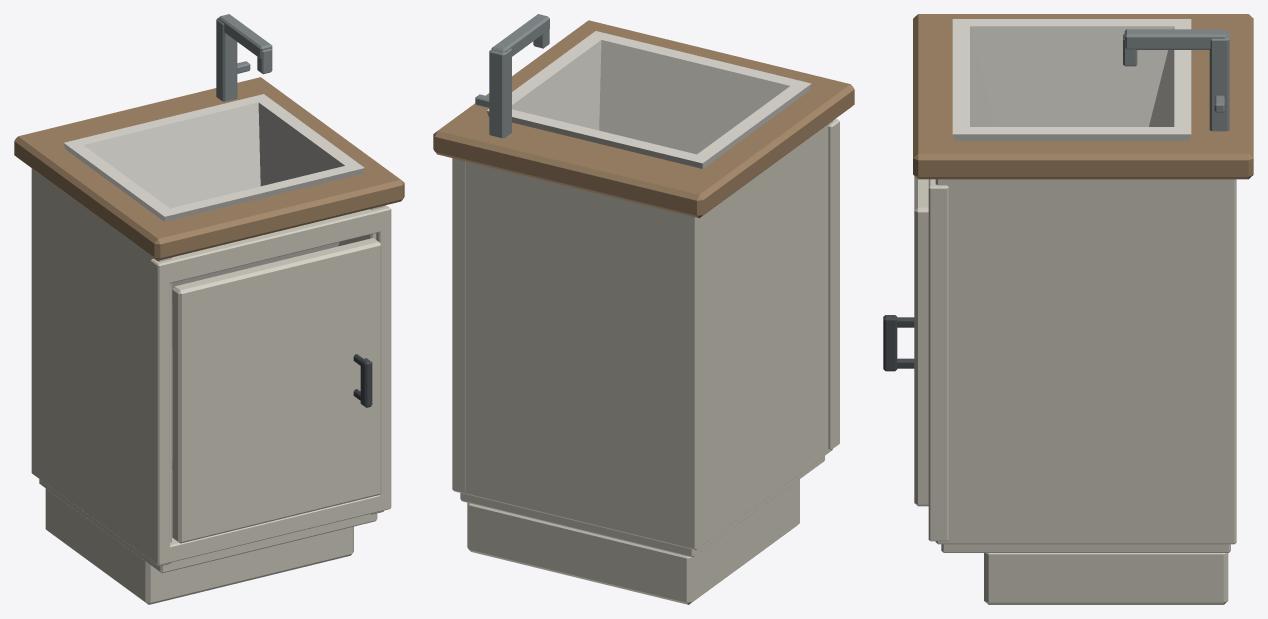
3 renders of one model, left to right at view 1: azimuth 30°, elevation 25°; view 2: azimuth 150°, elevation 25°; view 3: azimuth 270°, elevation 25°, orthographic. The views are drawn at different scales.
Visible parts, largest first — view 1: Left door, Side wall, Thick open basin, Countertop with basin opening, Continuous front frame, Recessed plinth, Cabinet floor, Faucet stem, Faucet spout, Door handle; view 2: Rear panel, Side wall, Thick open basin, Countertop with basin opening, Recessed plinth, Side wall.001, Continuous front frame, Cabinet floor, Faucet stem, Faucet spout; view 3: Side wall.001, Thick open basin, Countertop with basin opening, Recessed plinth, Continuous front frame, Left door, Cabinet floor, Faucet spout, Faucet stem, Door handle.
Boxes of the visible parts, x1,y1,x2,y2 form: Left door: (172,238,381,543); Side wall: (31,168,171,566); Thick open basin: (63,94,364,304); Countertop with basin opening: (14,77,404,260); Continuous front frame: (150,205,391,565); Recessed plinth: (45,488,353,604); Cabinet floor: (39,469,377,573); Faucet stem: (216,17,237,101); Faucet spout: (218,14,272,58); Door handle: (360,358,372,407); Rear panel: (465,161,682,546); Side wall: (682,121,832,550); Thick open basin: (487,31,811,168); Countertop with basin opening: (433,20,854,218); Recessed plinth: (467,479,799,604); Side wall.001: (452,158,465,493); Continuous front frame: (828,119,839,449); Cabinet floor: (460,456,824,557); Faucet stem: (489,48,511,138); Faucet spout: (491,14,549,56); Side wall.001: (935,179,1236,544); Thick open basin: (952,19,1191,140); Countertop with basin opening: (913,14,1253,179); Recessed plinth: (984,553,1228,604); Continuous front frame: (928,179,948,541); Left door: (914,176,928,506); Cabinet floor: (941,544,1230,552); Faucet spout: (1124,29,1226,49); Faucet stem: (1209,31,1229,131); Door handle: (883,315,897,371).
Size of the model in its own units: 0.6 by 1.09 by 0.6525.
